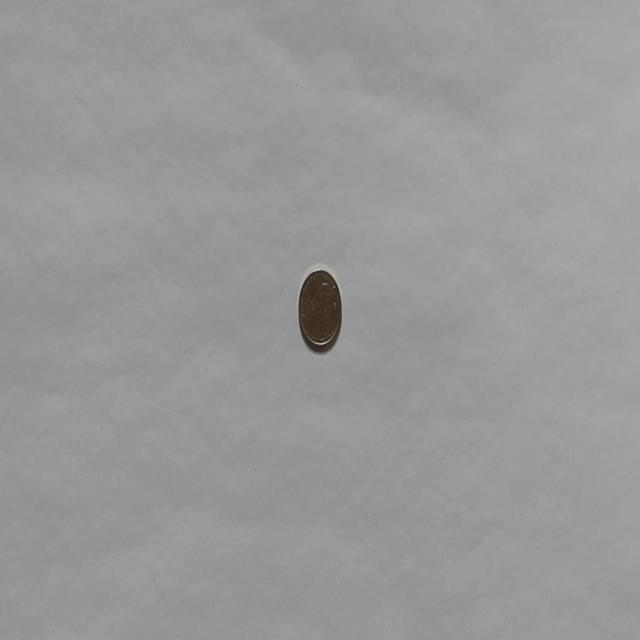seribu rupiah koin: (297, 265, 342, 352)
